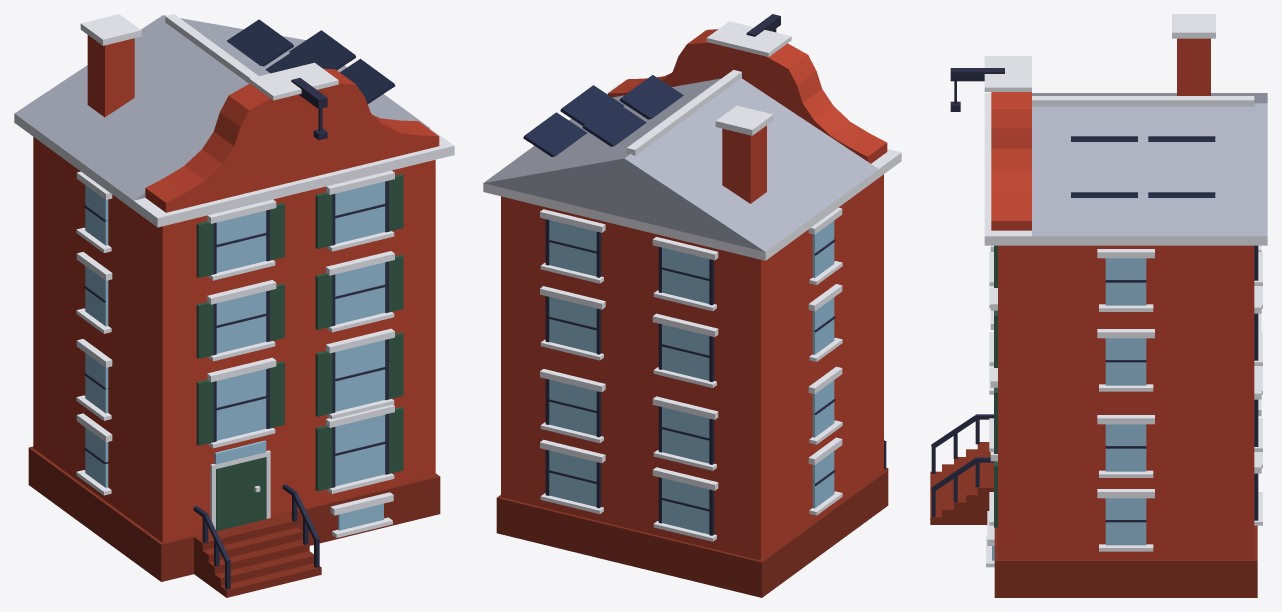
The model's file is house-1x1-4f-dutch-a-solar.glb.
The picture shows the model from 3 angles, left to right: view 1: azimuth 30°, elevation 25°; view 2: azimuth 150°, elevation 25°; view 3: azimuth 270°, elevation 25°; orthographic projection. The views are drawn at different scales.
Parts seen in each view (by area): view 1: house-1x1-4f-dutch-a-solar; view 2: house-1x1-4f-dutch-a-solar; view 3: house-1x1-4f-dutch-a-solar.
Part boxes in pixels (x1=…): house-1x1-4f-dutch-a-solar: x1=14, y1=14, x2=454, y2=597; house-1x1-4f-dutch-a-solar: x1=483, y1=14, x2=901, y2=597; house-1x1-4f-dutch-a-solar: x1=930, y1=14, x2=1267, y2=597.
Size of the model in its own units: 1 by 1.51 by 0.995.
1 material, 1 textured.
